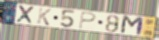5: (61, 9, 77, 30)
8: (105, 14, 121, 33)
K: (36, 7, 52, 27)
M: (120, 15, 146, 37)
P: (78, 11, 98, 30)
X: (16, 5, 36, 26)
